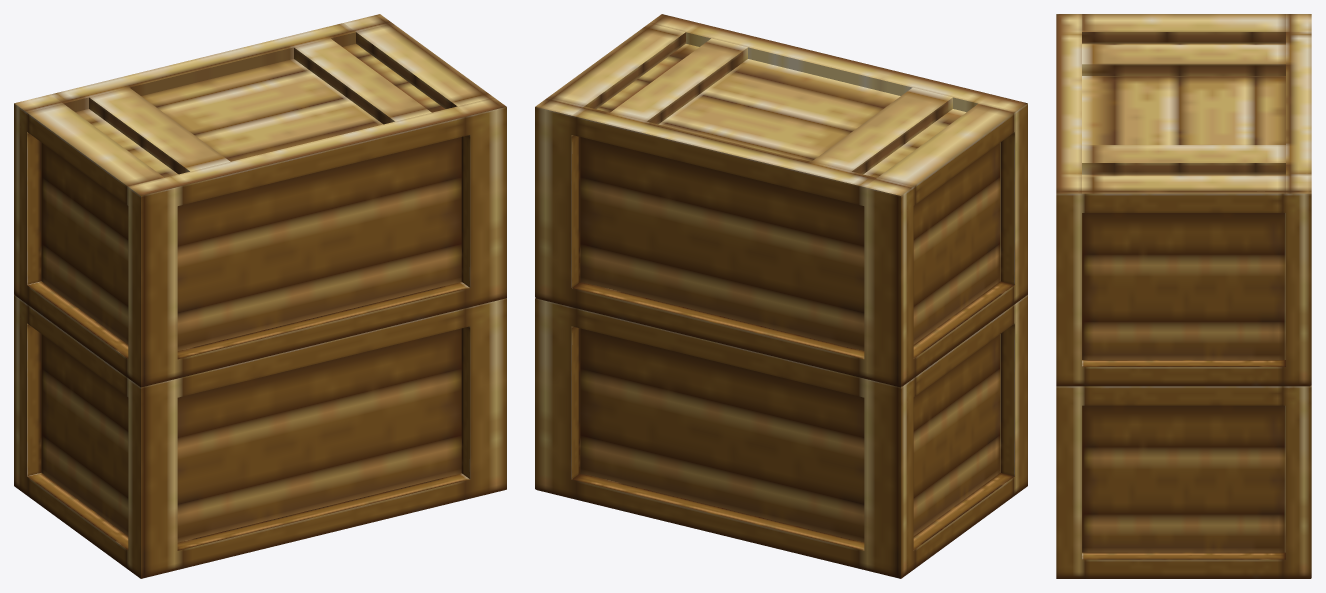
Rendered from Inside_Poly_Crate_01_Double.obj.
3 renders of one model, left to right at view 1: azimuth 30°, elevation 25°; view 2: azimuth 150°, elevation 25°; view 3: azimuth 270°, elevation 25°, orthographic.
Parts seen in each view (by area): view 1: Cube.001; view 2: Cube.001; view 3: Cube.001.
Part boxes in pixels (x1,y1,x2,y2): Cube.001: (14,14,506,578); Cube.001: (535,14,1027,578); Cube.001: (1056,14,1311,578).
Bounding box in the file's own units: 1 × 1 × 0.6.
Materials: 1 (1 with a texture image).
